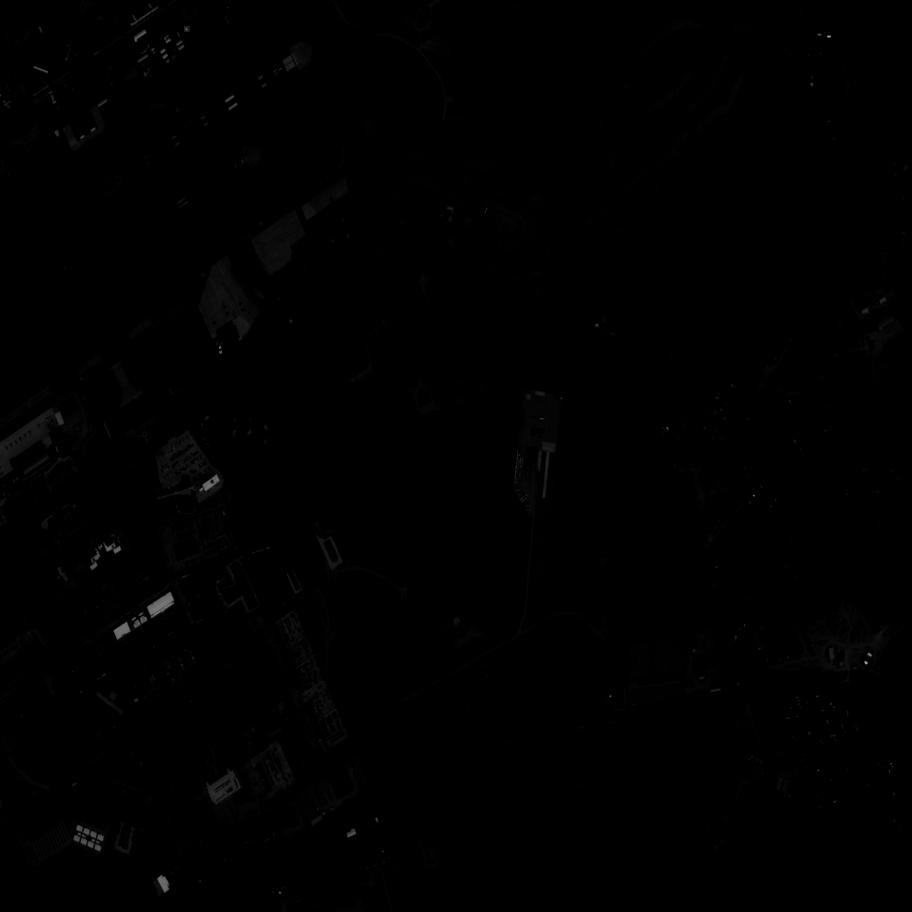plane: (142, 72, 150, 80), (194, 19, 201, 26), (215, 63, 222, 69), (188, 33, 194, 39), (185, 26, 191, 32), (208, 24, 213, 29), (158, 76, 162, 81), (172, 66, 176, 71), (221, 60, 226, 64), (206, 17, 209, 21), (162, 73, 166, 76), (154, 80, 156, 83)
storage-tank: (14, 168, 19, 173), (219, 351, 222, 354), (219, 346, 221, 349), (21, 165, 22, 168)
